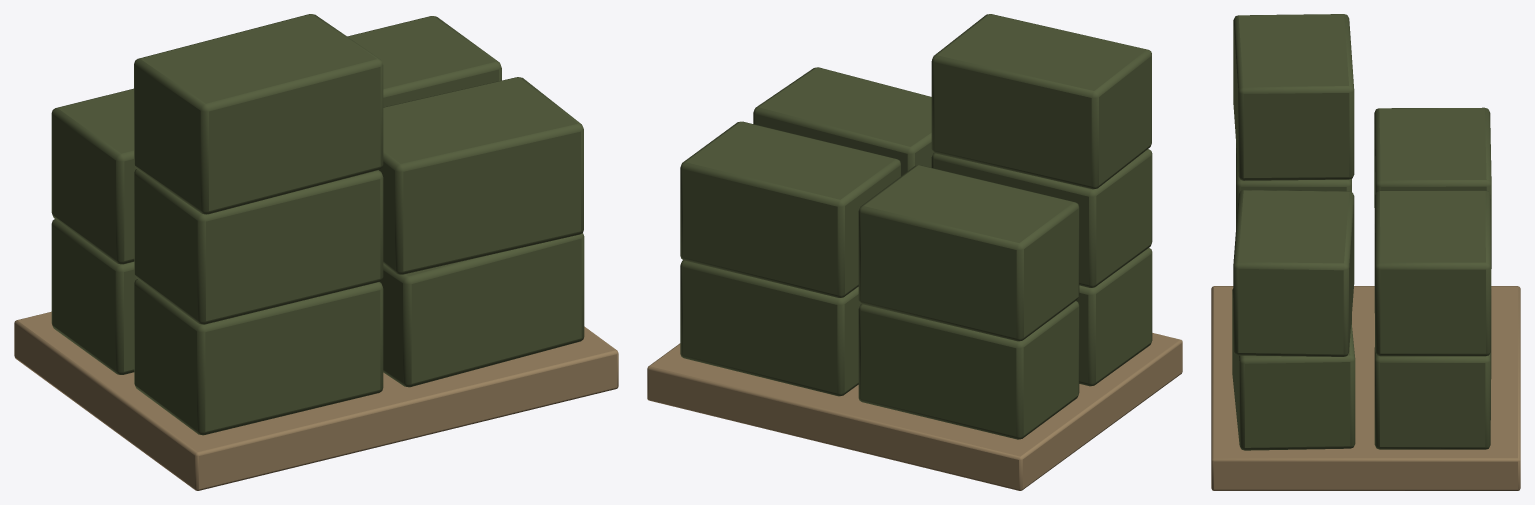
Rendered from Prop_Crates.fbx.
The picture shows the model from 3 angles, left to right: view 1: azimuth 30°, elevation 25°; view 2: azimuth 150°, elevation 25°; view 3: azimuth 270°, elevation 25°; orthographic projection. The views are drawn at different scales.
Parts seen in each view (by area): view 1: Prop_Crates_Mesh; view 2: Prop_Crates_Mesh; view 3: Prop_Crates_Mesh.
Boxes of the visible parts, left/top/right/bottom form: Prop_Crates_Mesh: left=14, top=14, right=618, bottom=490; Prop_Crates_Mesh: left=647, top=14, right=1182, bottom=490; Prop_Crates_Mesh: left=1211, top=14, right=1520, bottom=490.
Bounding box in the file's own units: 1.6 × 1.34 × 1.2.
